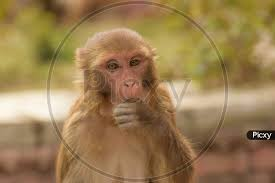monkey: (48, 41, 187, 180)
